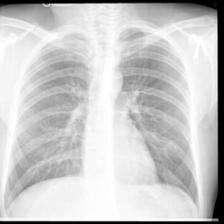tuberculosis: (2, 21, 205, 218)
